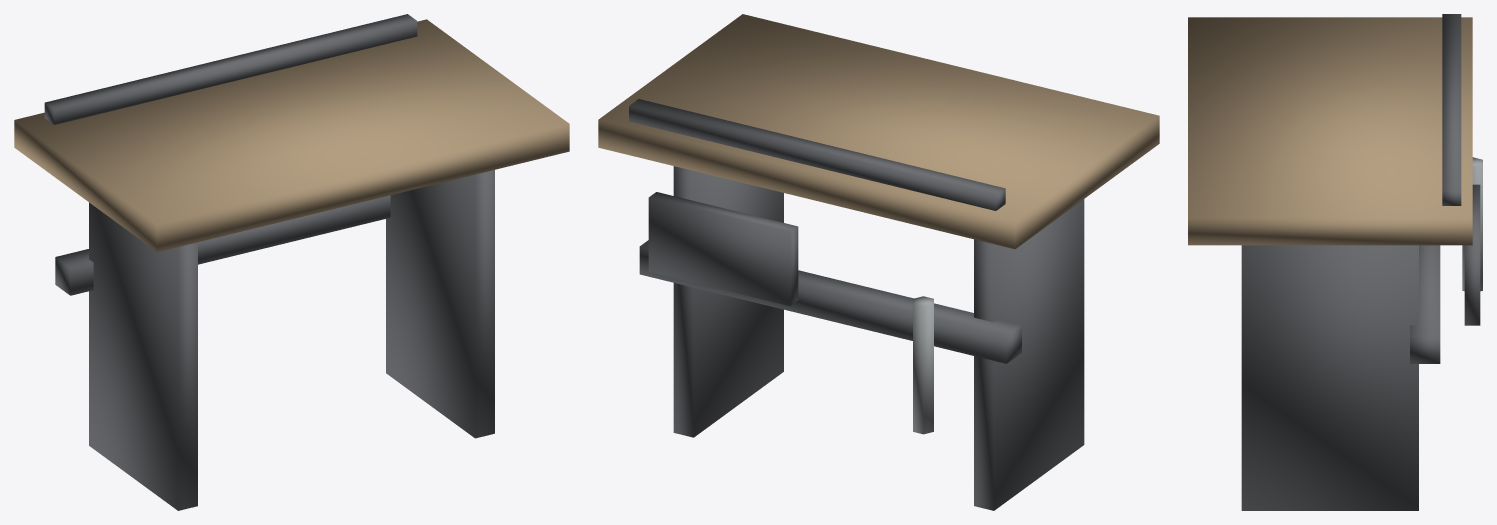
File: drafting_table__service.glb
The picture shows the model from 3 angles, left to right: view 1: azimuth 30°, elevation 25°; view 2: azimuth 150°, elevation 25°; view 3: azimuth 270°, elevation 25°; orthographic projection.
Visible parts, largest first — view 1: world; view 2: world; view 3: world.
Boxes of the visible parts, left/top/right/bottom form: world: left=14, top=14, right=569, bottom=510; world: left=598, top=14, right=1159, bottom=510; world: left=1188, top=14, right=1482, bottom=510.
Bounding box in the file's own units: 1.25 × 0.965 × 0.7771.
